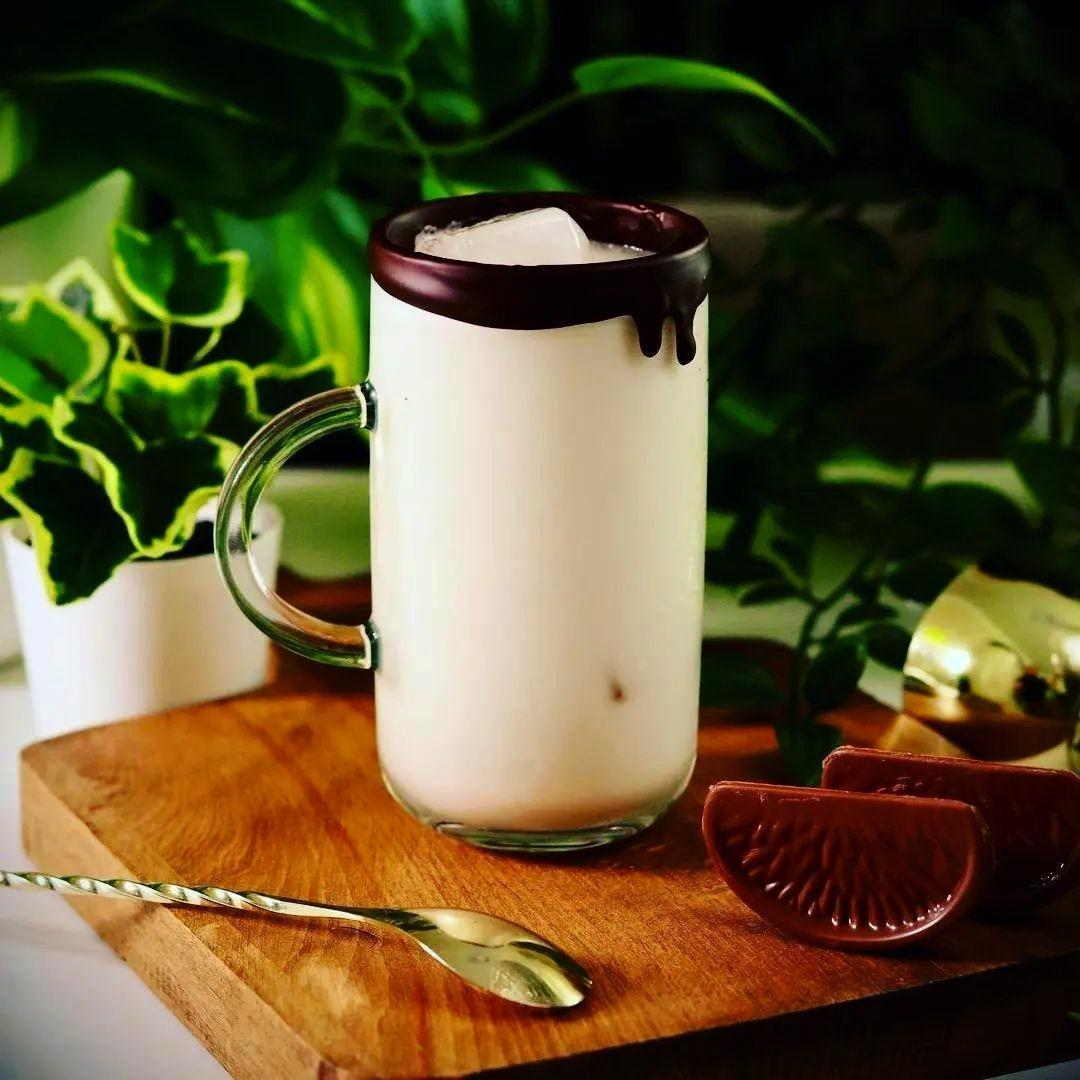glass-mug: (200, 171, 720, 858)
